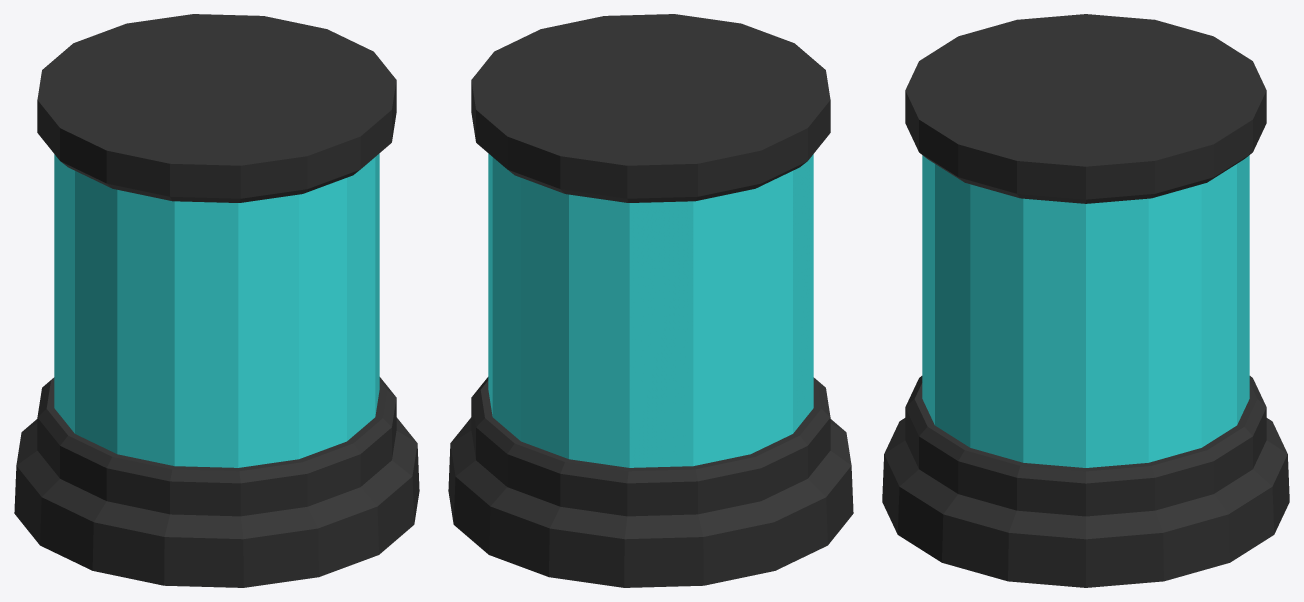
The model's file is HJD_SFB_Capsule_01.fbx.
3 views of the same model, side by side, from view 1: azimuth 30°, elevation 25°; view 2: azimuth 150°, elevation 25°; view 3: azimuth 270°, elevation 25° (orthographic).
Parts seen in each view (by area): view 1: Base, Glass; view 2: Base, Glass; view 3: Base, Glass.
Part boxes in pixels (x1,y1,x2,y2): Base: (14, 14, 419, 587); Glass: (54, 153, 379, 467); Base: (448, 14, 853, 587); Glass: (488, 153, 813, 467); Base: (882, 14, 1289, 587); Glass: (922, 155, 1249, 467).
Size of the model in its own units: 89.78 by 100 by 89.78.
